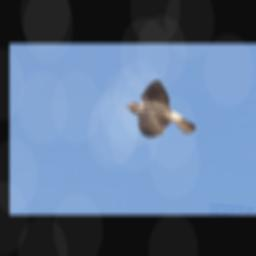Swallow: (118, 76, 203, 142)
